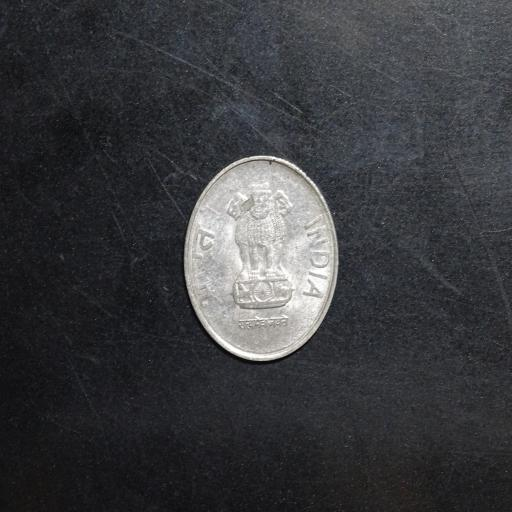rupee2: (183, 156, 340, 359)
